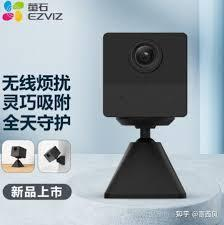tutu: (97, 28, 194, 123)
